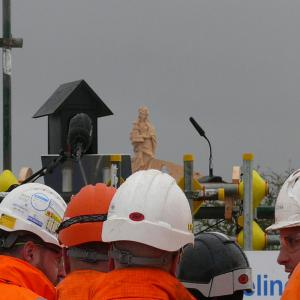red: (57, 182, 124, 274)
white: (108, 167, 193, 279), (3, 184, 71, 288), (267, 168, 300, 277)
